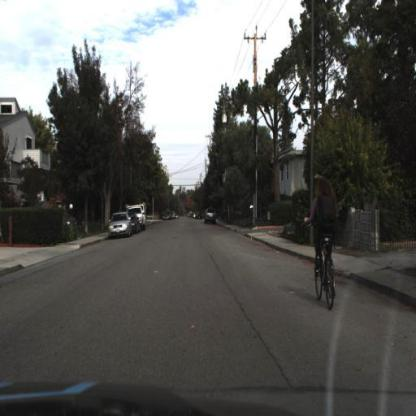biker: (304, 176, 338, 313)
car: (108, 212, 135, 238), (108, 210, 132, 239), (126, 202, 150, 230), (203, 205, 221, 230), (127, 210, 142, 239), (204, 206, 219, 228)
